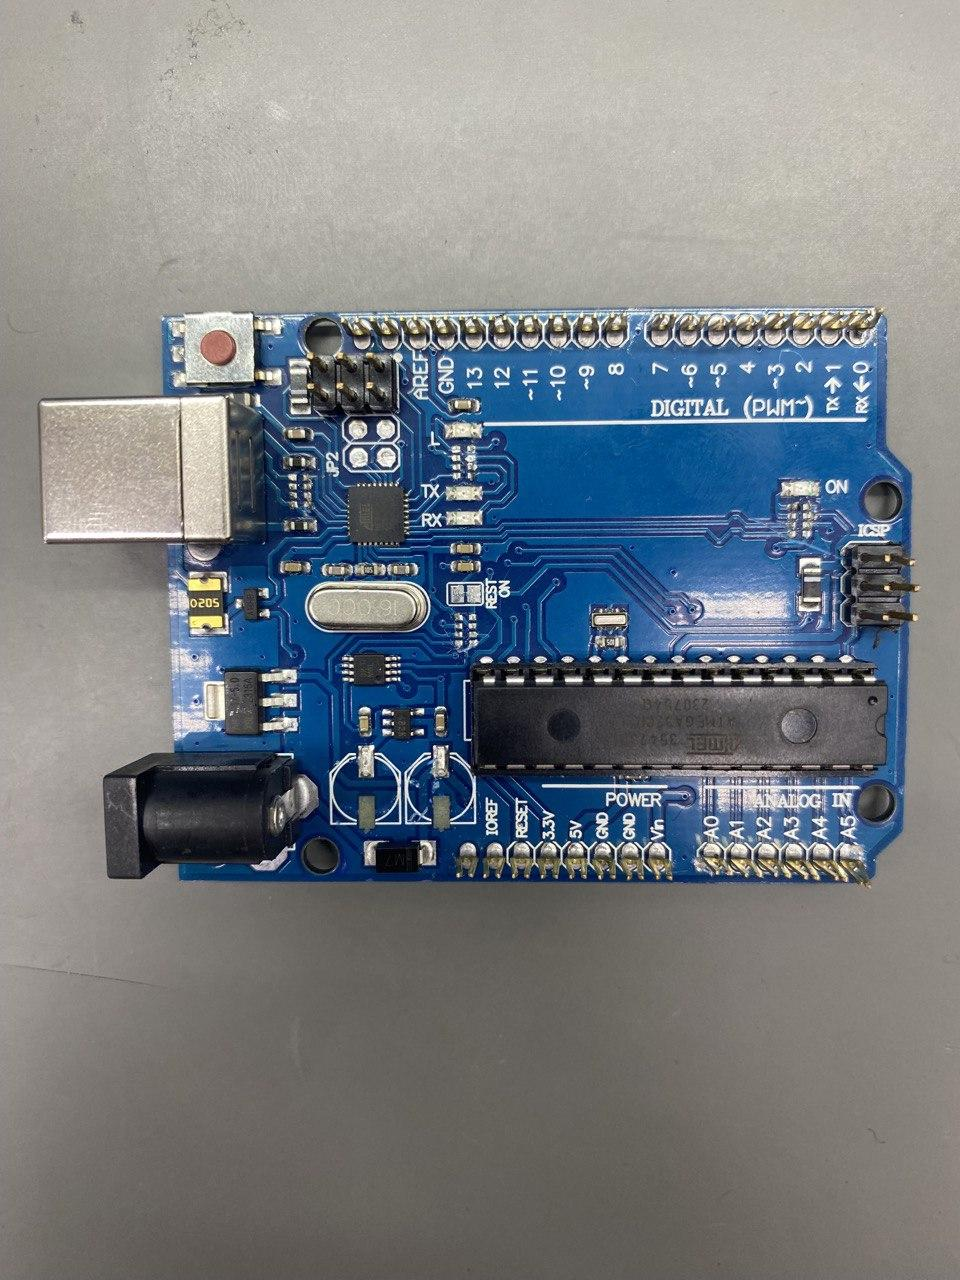ATmega328 chip: (470, 662, 888, 778)
Arduino board: (36, 308, 923, 890)
USB: (37, 394, 265, 546)
